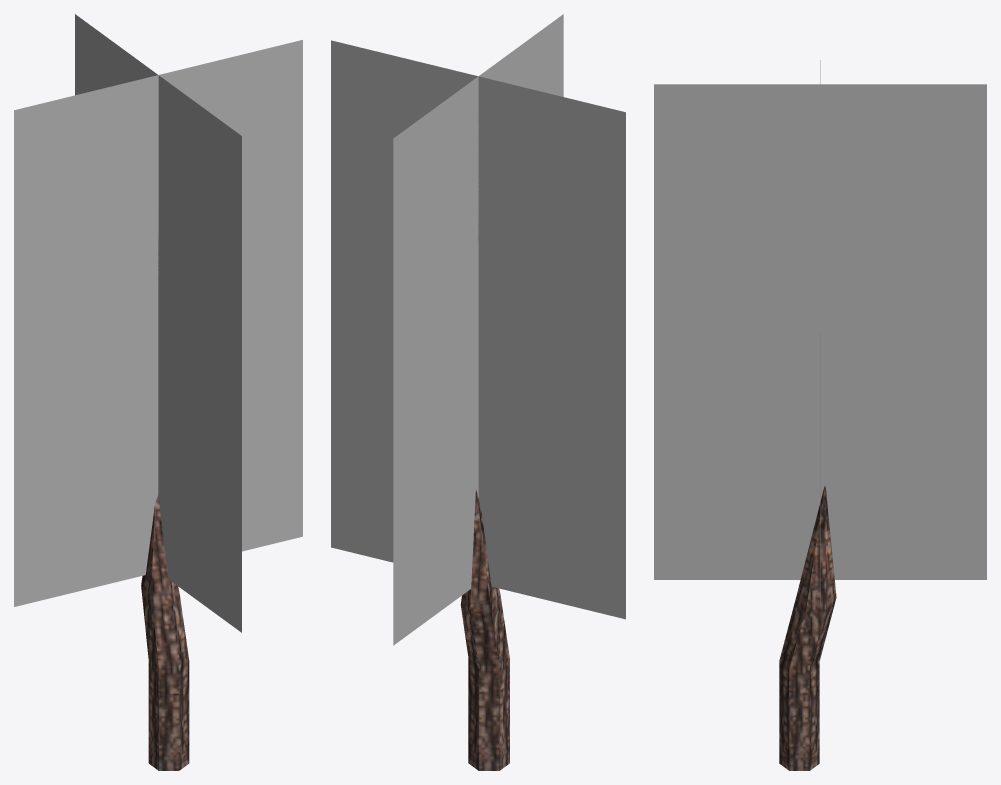
Rendered from Pinheiro_PSX.fbx.
The picture shows the model from 3 angles, left to right: view 1: azimuth 30°, elevation 25°; view 2: azimuth 150°, elevation 25°; view 3: azimuth 270°, elevation 25°; orthographic projection. The views are drawn at different scales.
Parts seen in each view (by area): view 1: Arvore.001; view 2: Arvore.001; view 3: Arvore.001.
Boxes of the visible parts, box(x1,y1,x2,y2) form: Arvore.001: box(14, 14, 302, 770); Arvore.001: box(331, 14, 625, 770); Arvore.001: box(654, 60, 986, 770).
Bounding box in the file's own units: 60.84 × 137 × 60.84.
